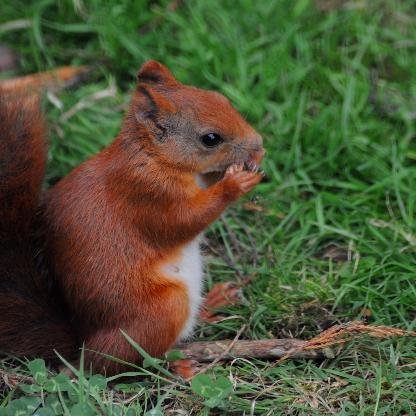Squirrel: (1, 52, 275, 372)
